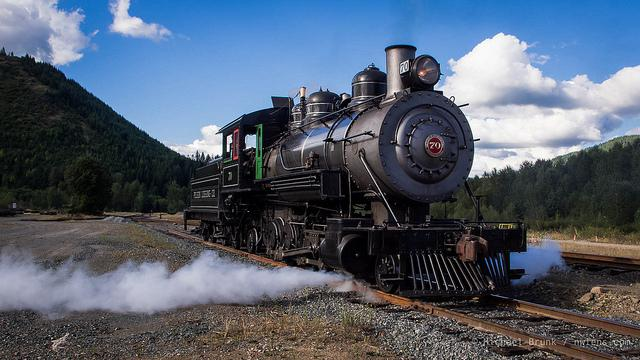Train: (181, 47, 530, 302)
